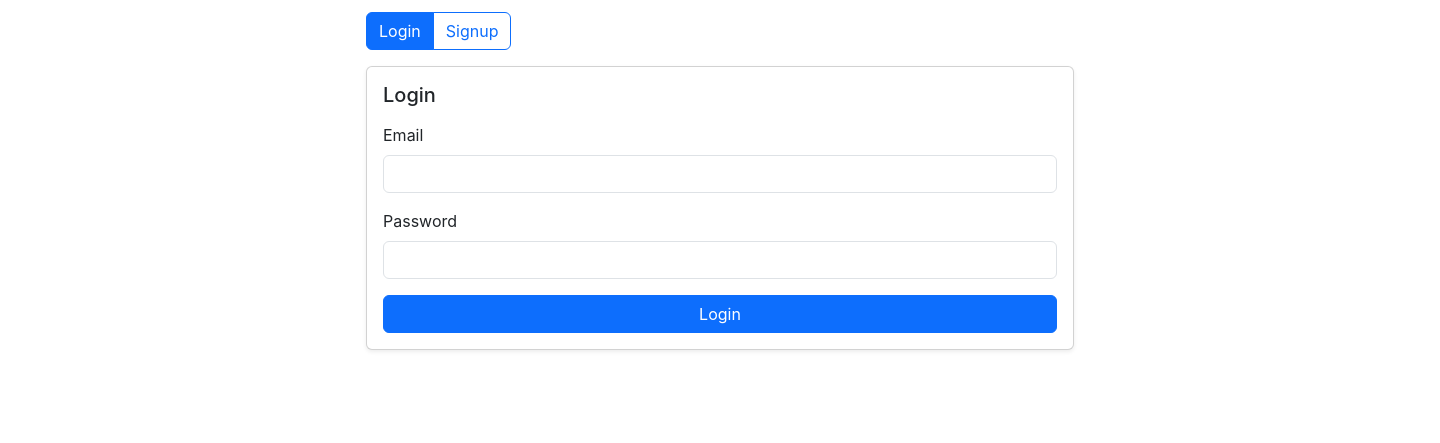
Test: AuthPage › shows login error when backend rejects credentials
Type "wrong@example.com" into the field named "email".
click(720, 174); type("wrong@example.com")  # box [383,155,1057,193]
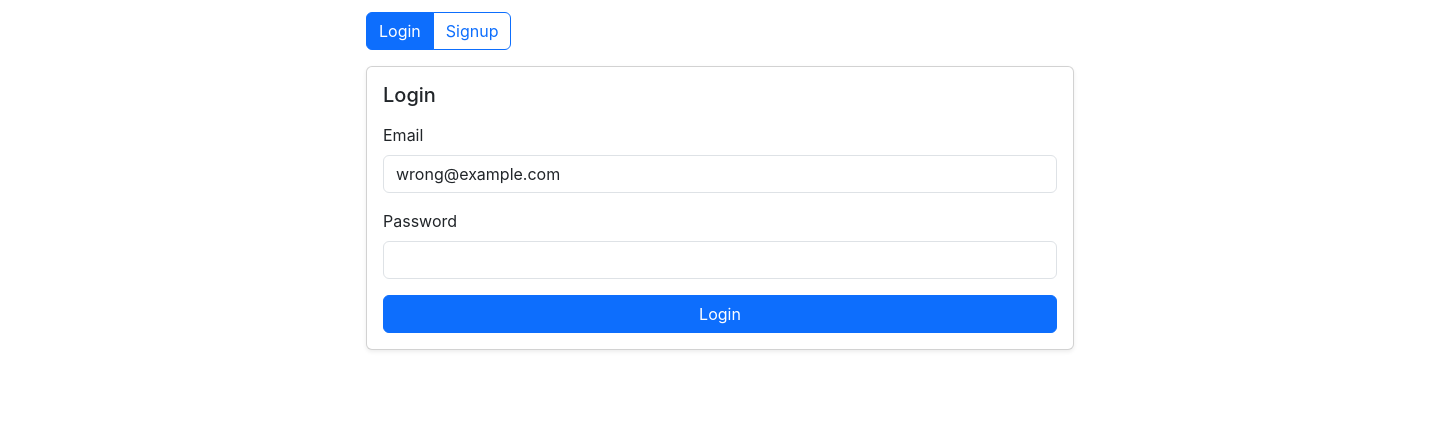
Type "bad-pass" into the password field named "password".
click(720, 260); type("bad-pass")  # box [383,241,1057,279]
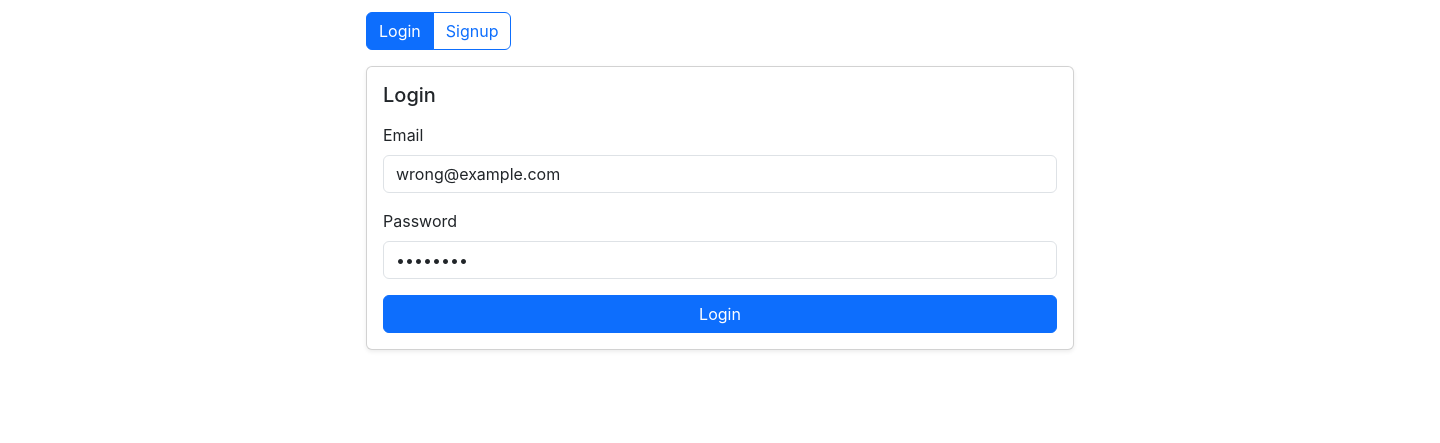
Submit the form, box [366,66,1074,350]
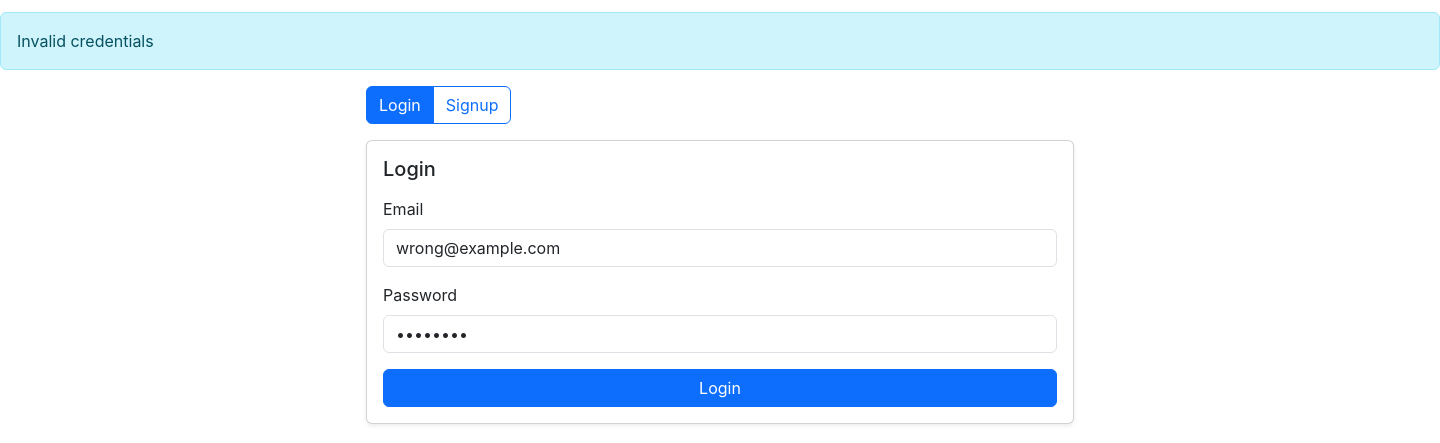
Expected: the message reads "Invalid credentials", [17,31,154,51]
